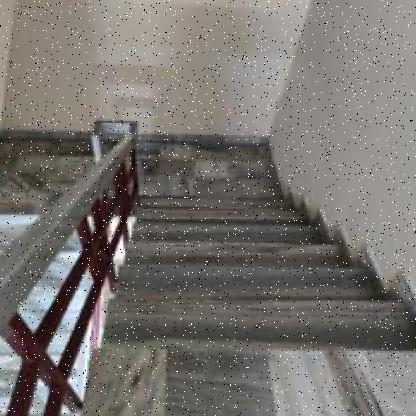stair_down: (106, 250, 416, 372)
